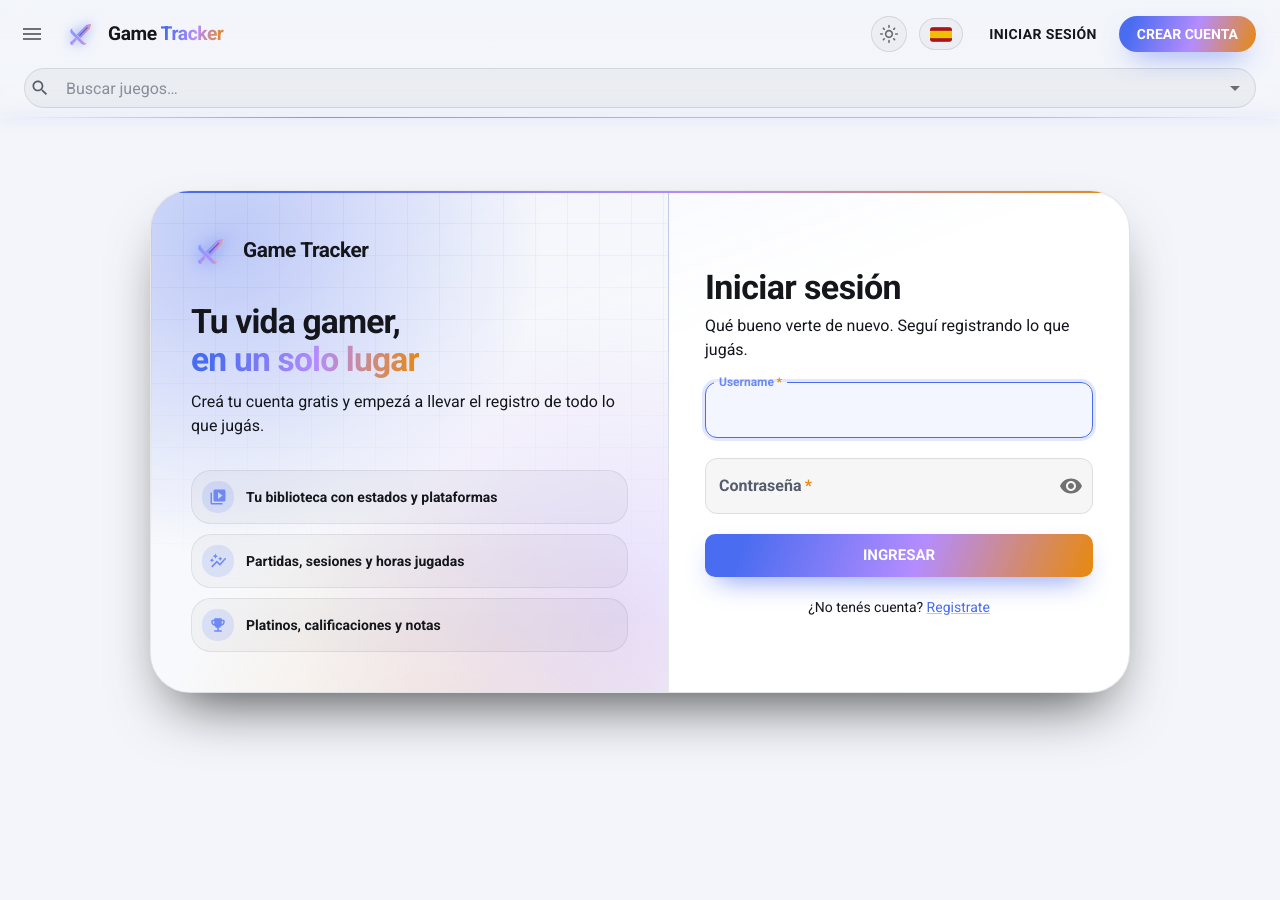
Test: authentication flow › login › shows a generic message for invalid credentials
Expected: the heading "Iniciar sesión" is shown, [705,266,901,306]
Type "player_one" into the field labelled "Username *" at (899, 410), box [705,382,1093,438]
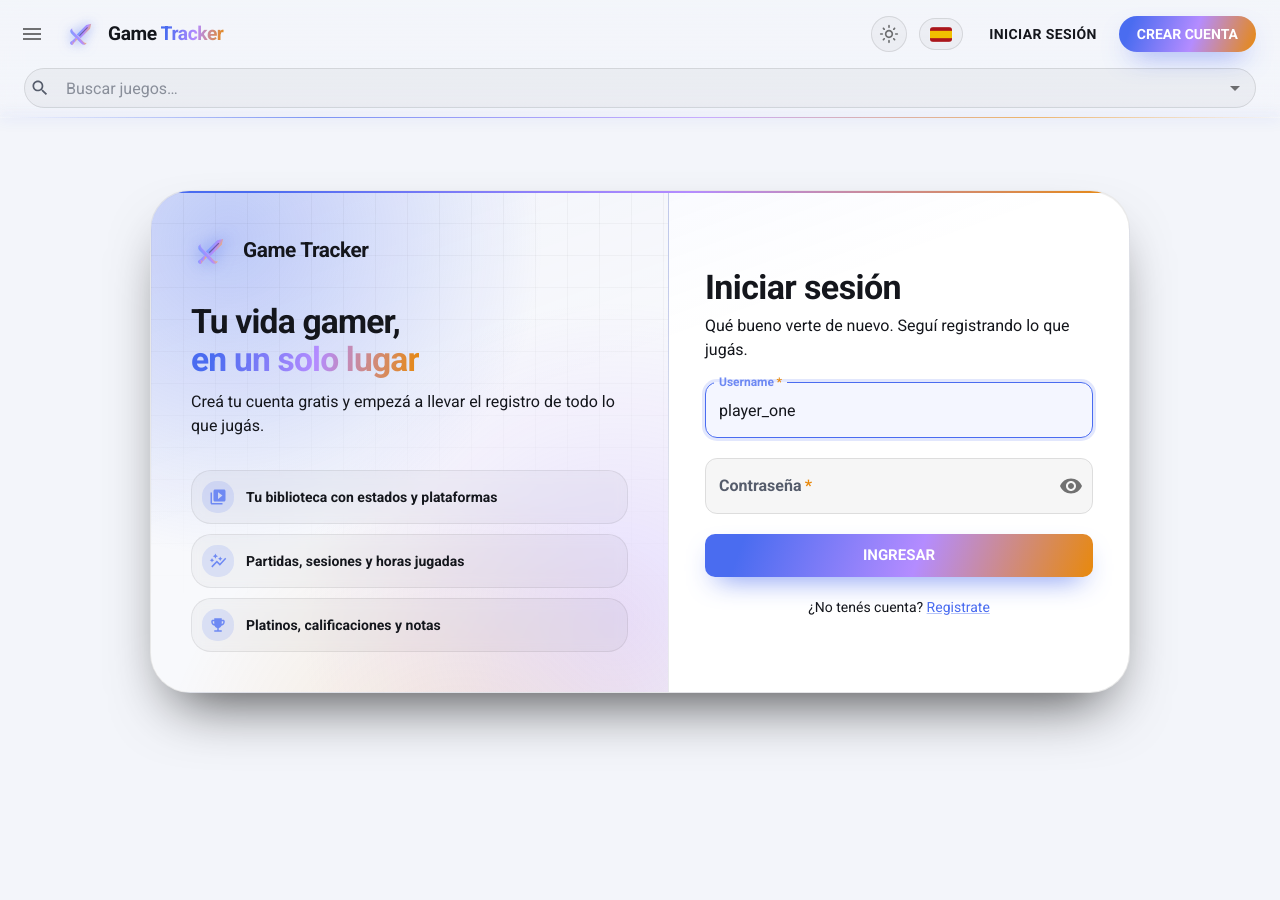
Type "wrong-password" into the password field labelled "Contraseña *" at (874, 486), box [705,458,1043,514]
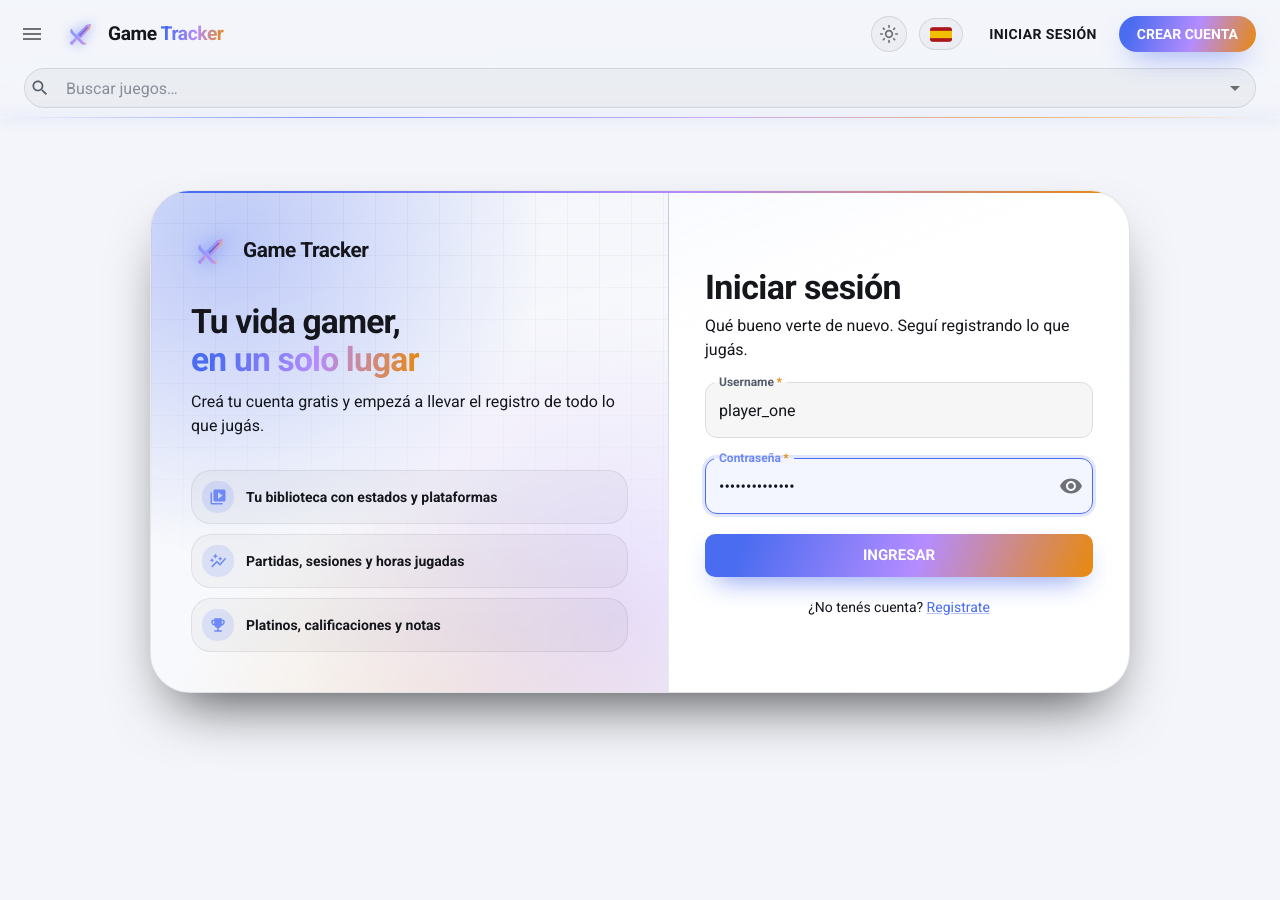
Click the button "Ingresar" at (899, 556), box [705,534,1093,577]
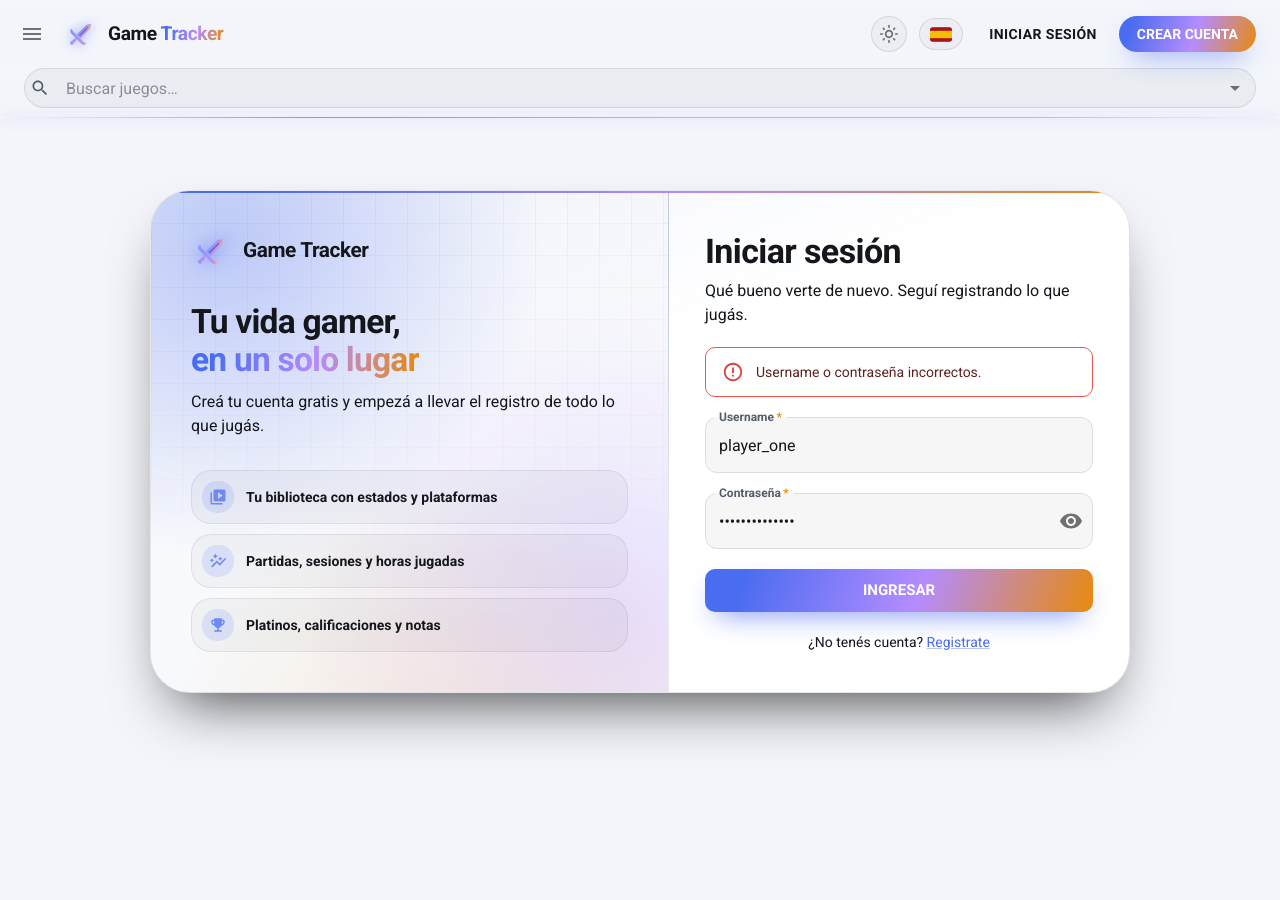
Result: the text "Username o contraseña incorrectos." is shown at [756,364,982,380]
